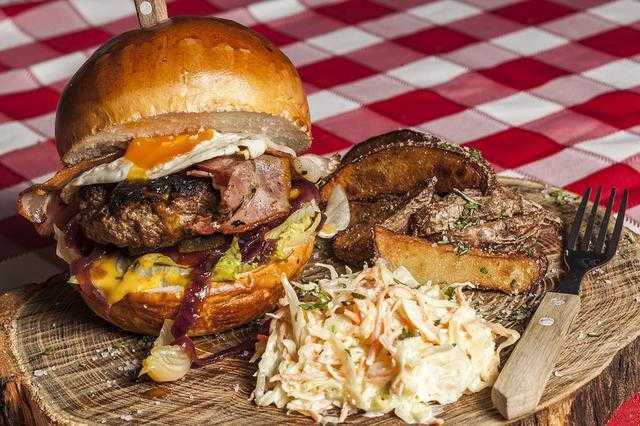hamburger: (47, 29, 305, 311)
